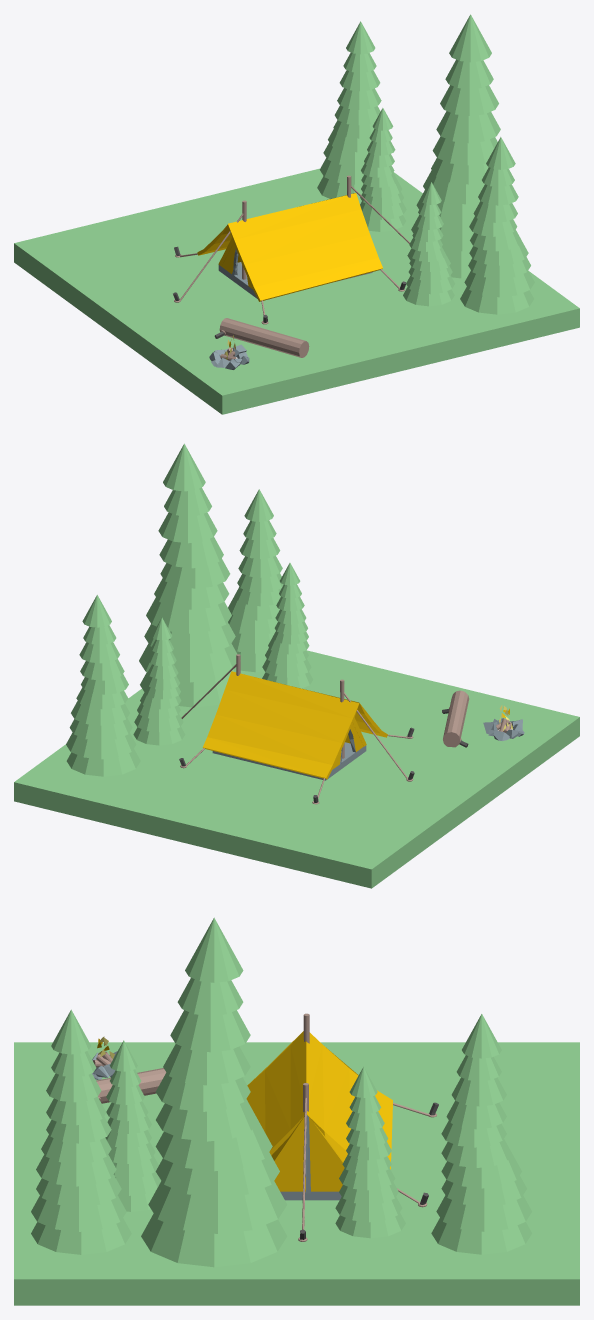
Rendered from campsite.gltf.
3 renders of one model, top to bottom at view 1: azimuth 30°, elevation 25°; view 2: azimuth 150°, elevation 25°; view 3: azimuth 270°, elevation 25°, orthographic. The views are drawn at different scales.
Parts seen in each view (by area): view 1: group1292612855, group326174911, group1529860242, group189035796, group2144833775, group1698260185, group2098336265, group324380574; view 2: group1292612855, group1529860242, group1567315581, group2144833775, group189035796, group2098336265, group1698260185, group324380574, group257749776; view 3: group1292612855, group1529860242, group189035796, group2144833775, group2098336265, group1698260185, group1567315581, group326174911, group784294784, group324380574, group257749776.
Boxes of the visible parts, x1,y1,x2,y2 form: group1292612855: (14, 168, 579, 414); group326174911: (228, 193, 382, 301); group1529860242: (407, 14, 500, 278); group189035796: (460, 137, 534, 314); group2144833775: (317, 21, 381, 202); group1698260185: (403, 182, 455, 306); group2098336265: (360, 108, 406, 231); group324380574: (219, 318, 309, 357); group1292612855: (14, 650, 579, 888); group1529860242: (139, 443, 240, 707); group1567315581: (202, 671, 359, 779); group2144833775: (66, 595, 140, 776); group189035796: (228, 489, 283, 672); group2098336265: (133, 617, 185, 745); group1698260185: (262, 563, 313, 688); group324380574: (443, 690, 469, 747); group257749776: (212, 742, 366, 780); group1292612855: (14, 1042, 579, 1305); group1529860242: (141, 917, 287, 1267); group189035796: (31, 1009, 131, 1254); group2144833775: (431, 1014, 531, 1254); group2098336265: (335, 1066, 405, 1238); group1698260185: (105, 1040, 161, 1211); group1567315581: (306, 1032, 392, 1169); group326174911: (246, 1031, 306, 1155); group784294784: (271, 1116, 347, 1191); group324380574: (96, 1068, 166, 1103); group257749776: (280, 1191, 341, 1200).
Size of the model in its own units: 1.18 by 0.8384 by 1.18.
